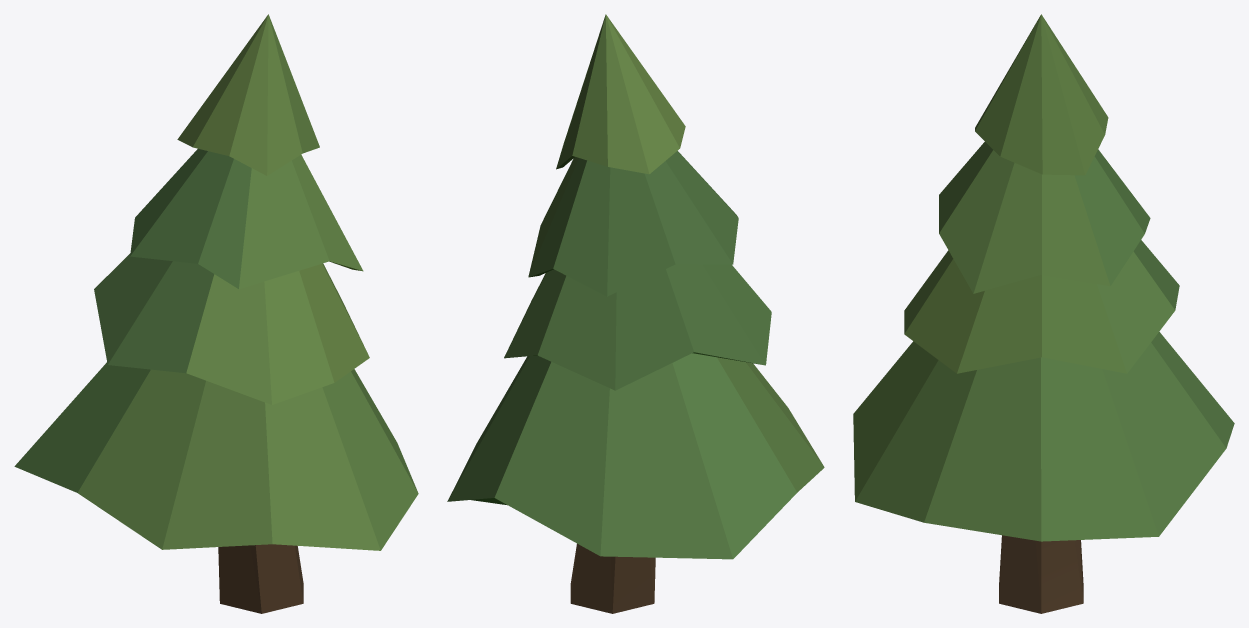
The model's file is Tree_05.glb.
3 renders of one model, left to right at view 1: azimuth 30°, elevation 25°; view 2: azimuth 150°, elevation 25°; view 3: azimuth 270°, elevation 25°, orthographic.
Visible parts, largest first — view 1: Tree_05_LOD0; view 2: Tree_05_LOD0; view 3: Tree_05_LOD0.
Part boxes in pixels (box(x1,y1,x2,y2)): Tree_05_LOD0: box(14, 14, 418, 613); Tree_05_LOD0: box(447, 14, 824, 613); Tree_05_LOD0: box(853, 14, 1234, 613).
Bounding box in the file's own units: 2.13 × 3.67 × 2.18.
